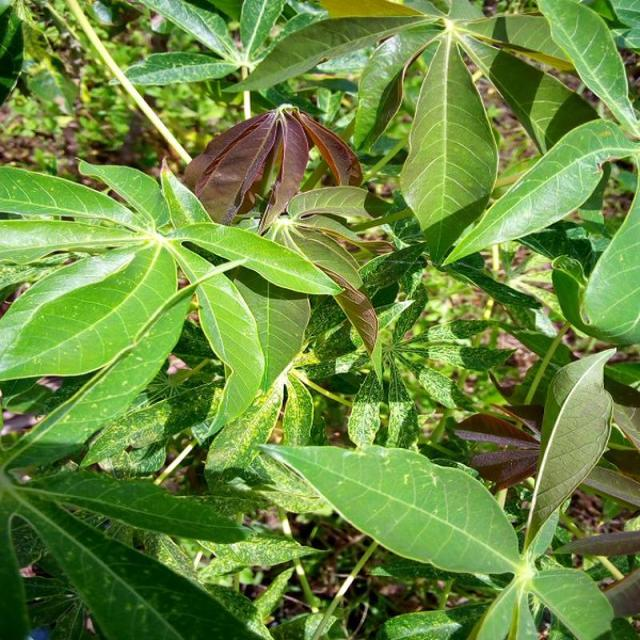cassava leaf: (0, 157, 342, 463), (254, 440, 520, 577), (398, 30, 499, 265), (521, 345, 617, 560)
